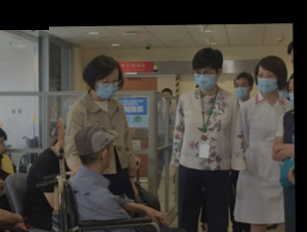with_mask: (94, 75, 120, 101), (192, 68, 217, 90), (256, 70, 278, 95), (233, 81, 250, 100), (275, 86, 289, 101)
